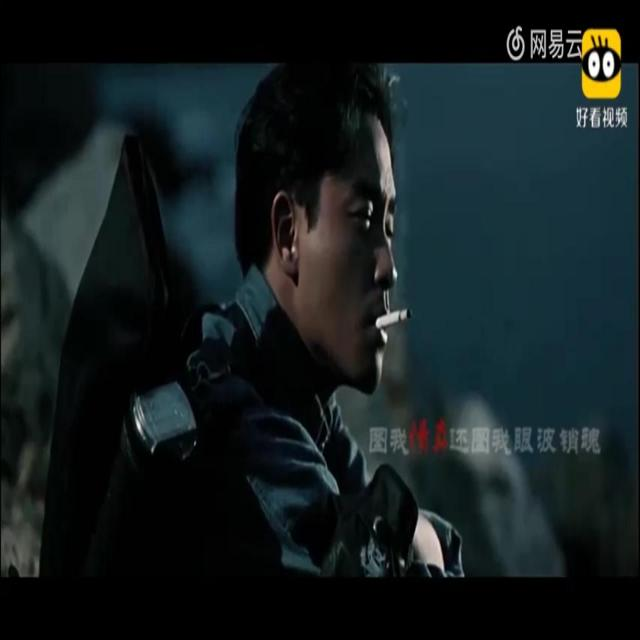Сигарета: (376, 308, 406, 326)
Тело: (144, 58, 452, 576)
